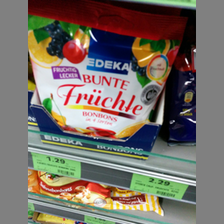candy: (28, 1, 186, 140)
